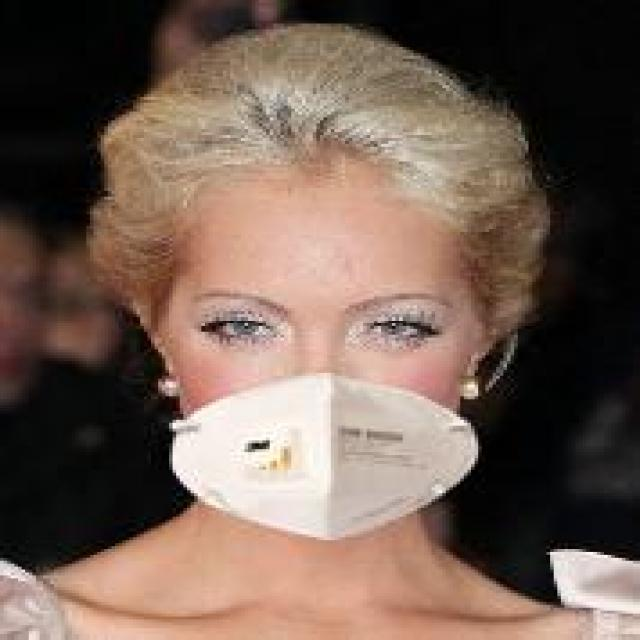mask: (83, 77, 525, 540)
